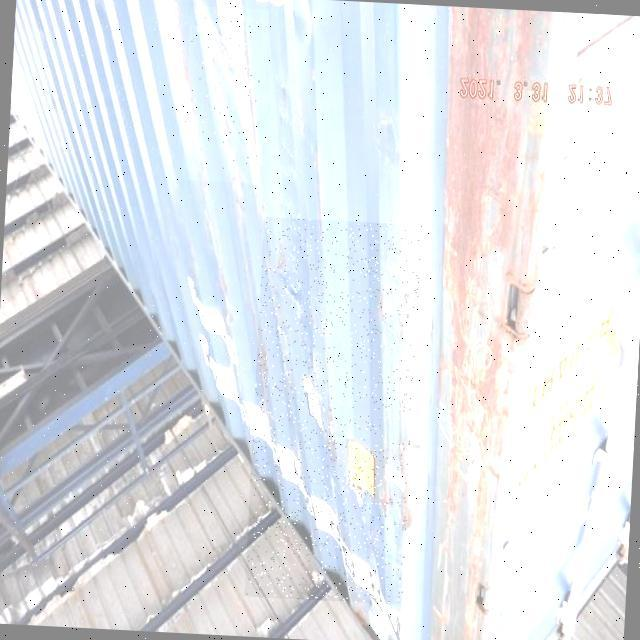Minor-Dent: (245, 217, 423, 605), (182, 6, 269, 184)
